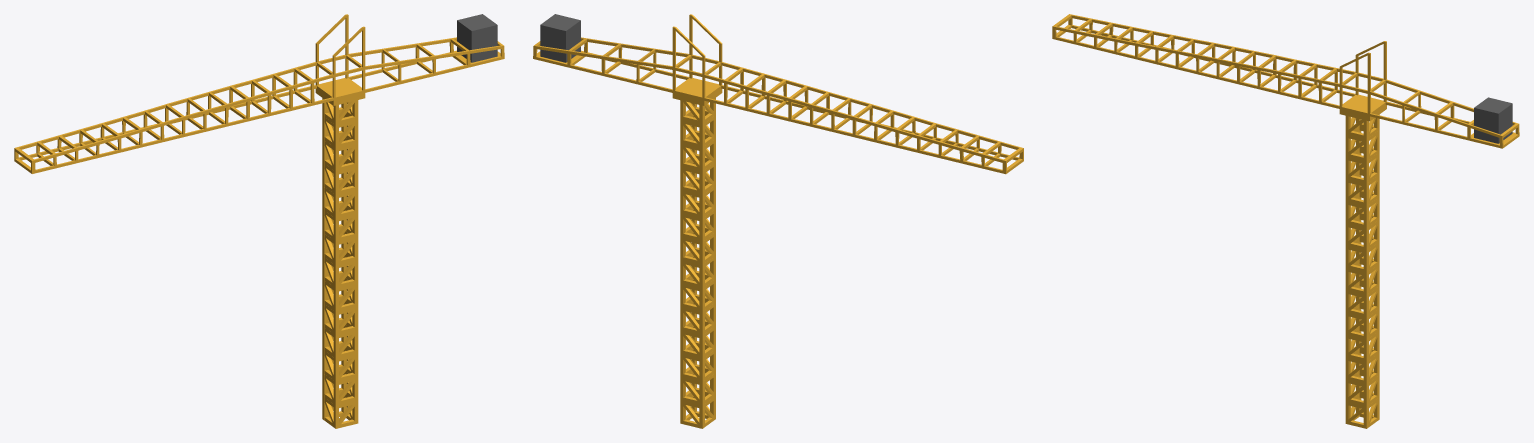
Rendered from LiftingCrane.fbx.
3 views of the same model, side by side, from view 1: azimuth 30°, elevation 25°; view 2: azimuth 150°, elevation 25°; view 3: azimuth 330°, elevation 25° (orthographic). The views are drawn at different scales.
Parts seen in each view (by area): view 1: LiftingCrane, Stone; view 2: LiftingCrane, Stone; view 3: LiftingCrane, Stone.
Part boxes in pixels (box(x1,y1,x2,y2)): LiftingCrane: box(14, 14, 504, 428); Stone: box(457, 14, 497, 62); LiftingCrane: box(533, 14, 1023, 428); Stone: box(540, 14, 580, 62); LiftingCrane: box(1052, 14, 1519, 428); Stone: box(1474, 97, 1512, 143).
Bounding box in the file's own units: 14427 × 11568 × 941.
